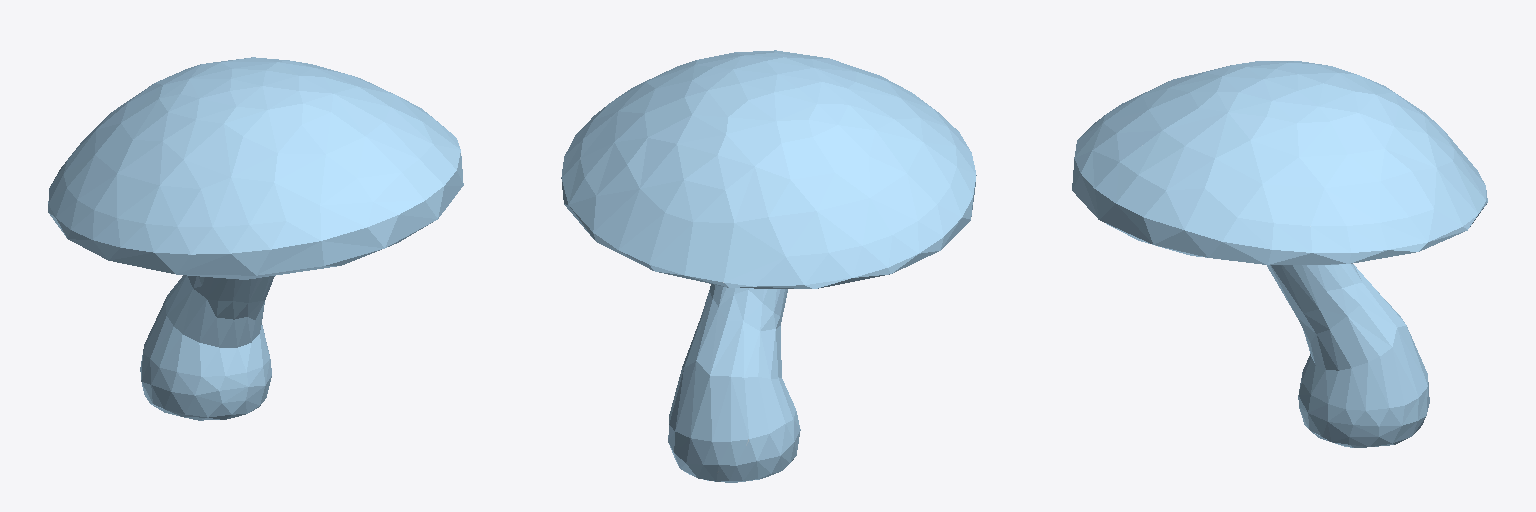
The picture shows the model from 3 angles: view 1: azimuth 30°, elevation 25°; view 2: azimuth 150°, elevation 25°; view 3: azimuth 270°, elevation 25°; orthographic projection.
Visible parts, largest first — view 1: low_res_Cylinder; view 2: low_res_Cylinder; view 3: low_res_Cylinder.
Boxes of the visible parts, box(x1,y1,x2,y2) form: low_res_Cylinder: box(48, 57, 463, 420); low_res_Cylinder: box(561, 50, 976, 482); low_res_Cylinder: box(1072, 61, 1487, 447).
Size of the model in its own units: 5.56 by 5.18 by 5.55.
Materials: 1 (1 with a texture image).